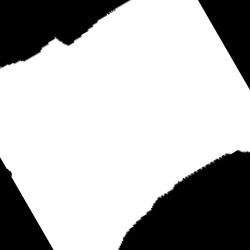spot: (1, 1, 247, 247)
